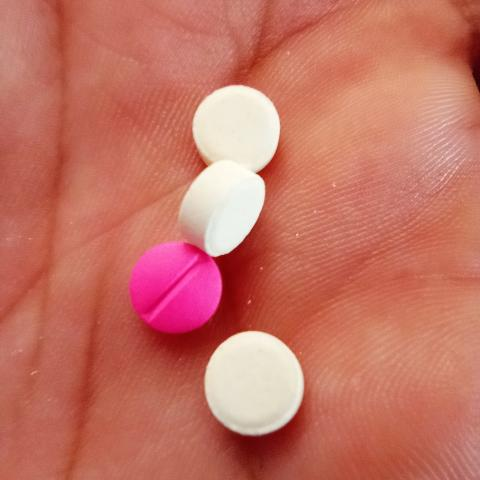Pill: (163, 144, 302, 266), (195, 325, 322, 443), (184, 61, 294, 172)
